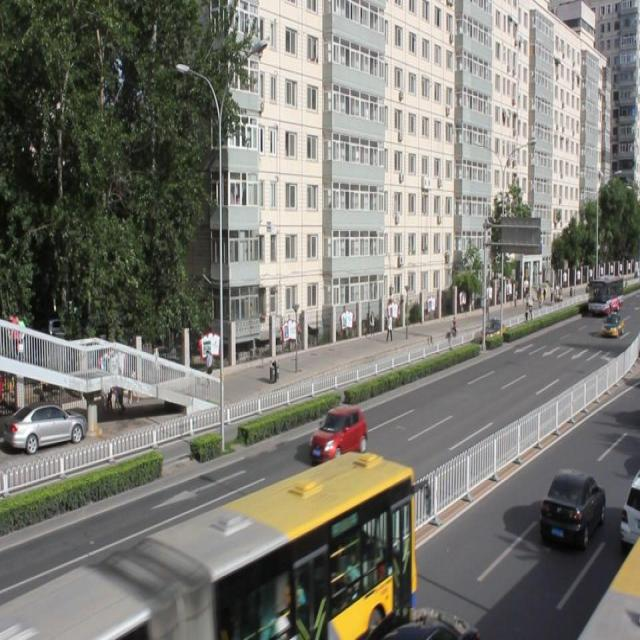car: (538, 468, 604, 546), (375, 605, 480, 640), (309, 403, 368, 463), (619, 466, 640, 544), (480, 318, 503, 342)
van: (1, 450, 413, 640), (568, 535, 640, 640)
